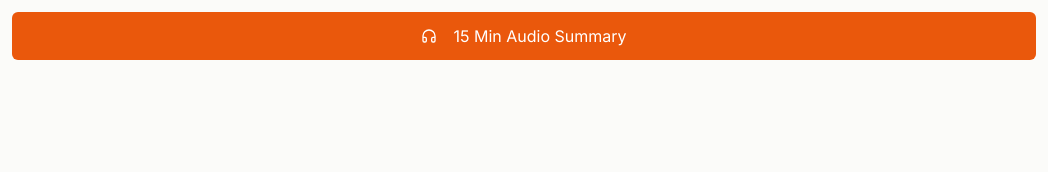
AudioSummaryButton › toggles pause and resume when the play/pause button is clicked
Later steps or results of the test are not shown.
Click the button "15 Min Audio Summary".
click(524, 36)  # box [12, 12, 1036, 60]
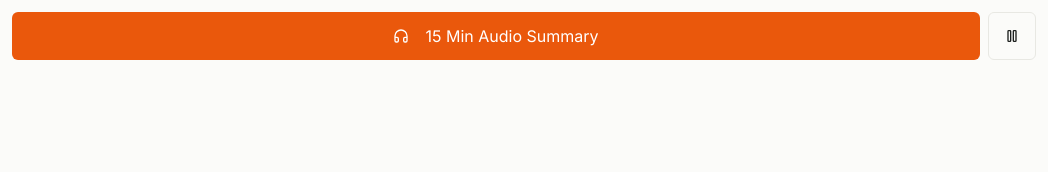
Result: the number of buttons is 2 at [12, 12, 980, 60]; [988, 12, 1036, 60]
